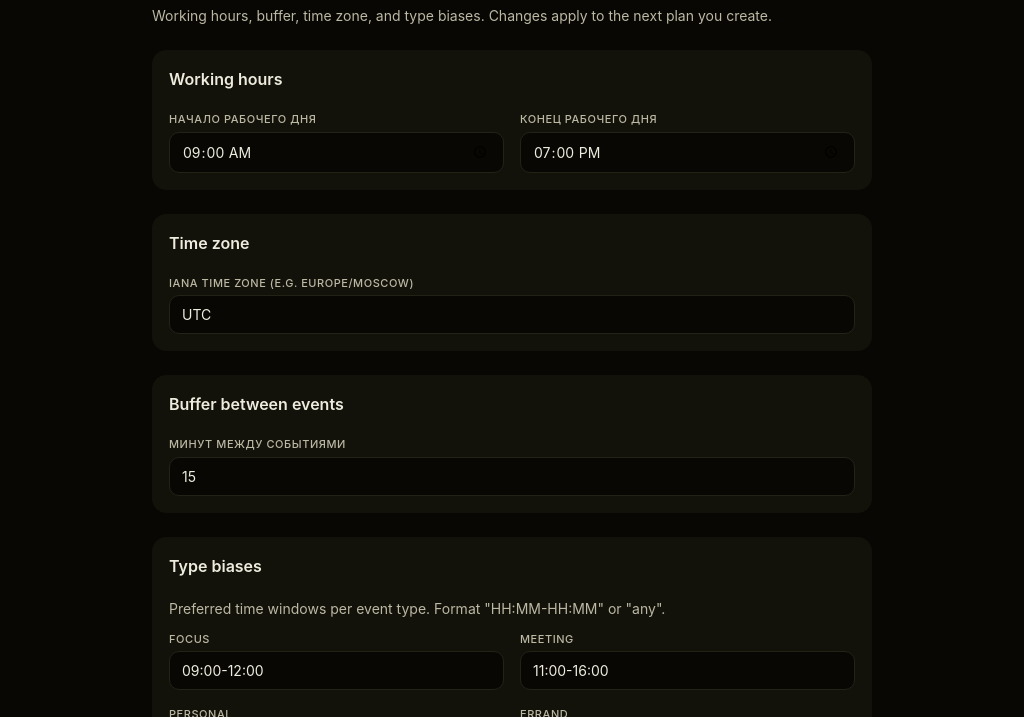
Test: Settings page › submits a partial update via PUT and shows a success toast
This screenshot has width=1024, height=717.
Replace the text in the time field labelled "Начало рабочего дня" with "08:00" at point(336, 152), box [169,132,504,172]
(page scrolled)
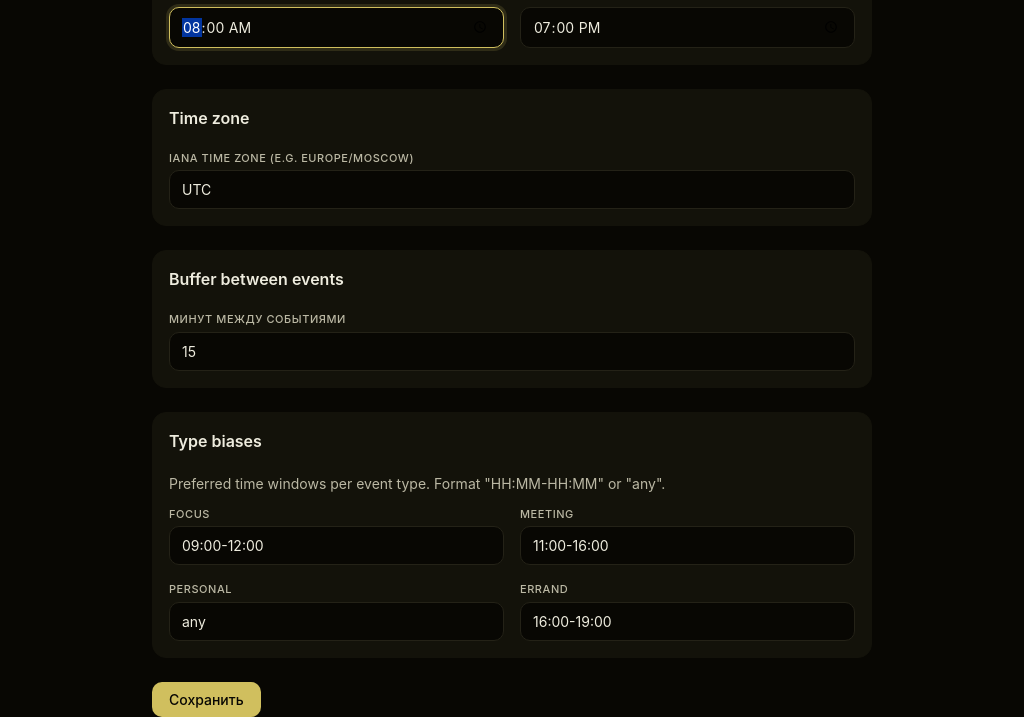
Click the button "Сохранить".
click(206, 699)  # box [152,682,261,716]
(page scrolled)
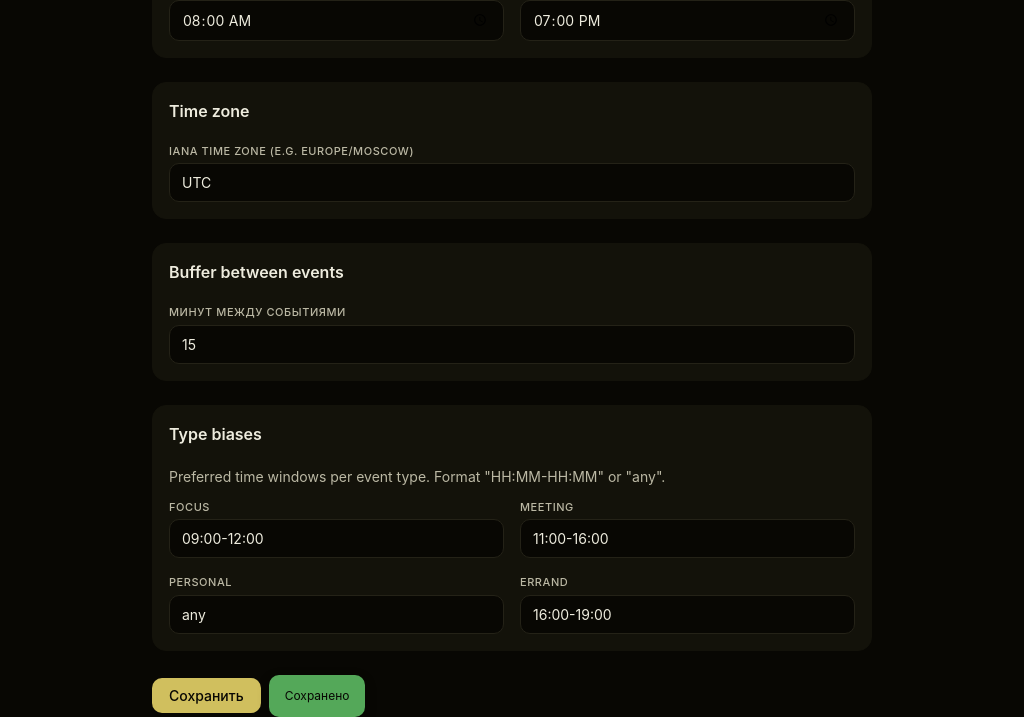
Check: the message "Сохранено" is shown, box [269,674,366,716]
